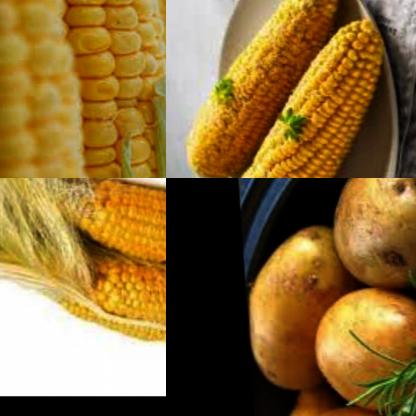corn: (171, 0, 357, 178), (201, 21, 390, 178), (41, 0, 166, 178), (0, 0, 94, 178), (47, 178, 166, 293), (41, 301, 166, 352), (63, 271, 166, 327)
potato: (241, 218, 358, 394), (303, 288, 416, 416), (332, 178, 416, 294), (246, 361, 325, 416)
